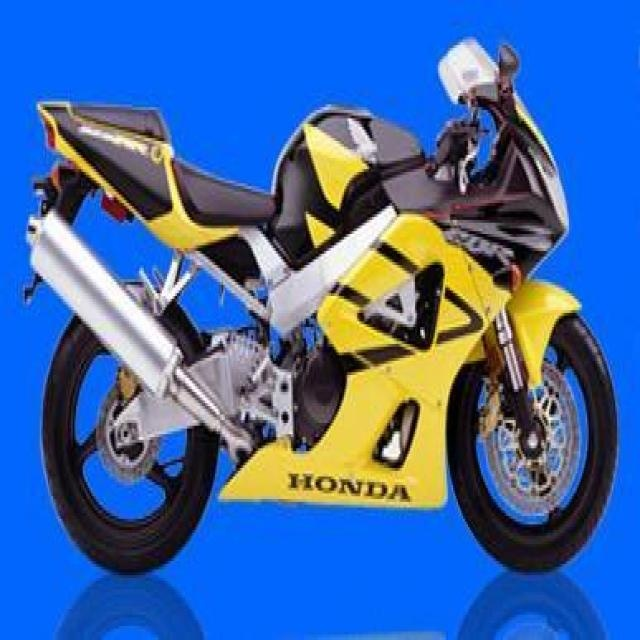Motorcycle: (26, 41, 617, 564)
